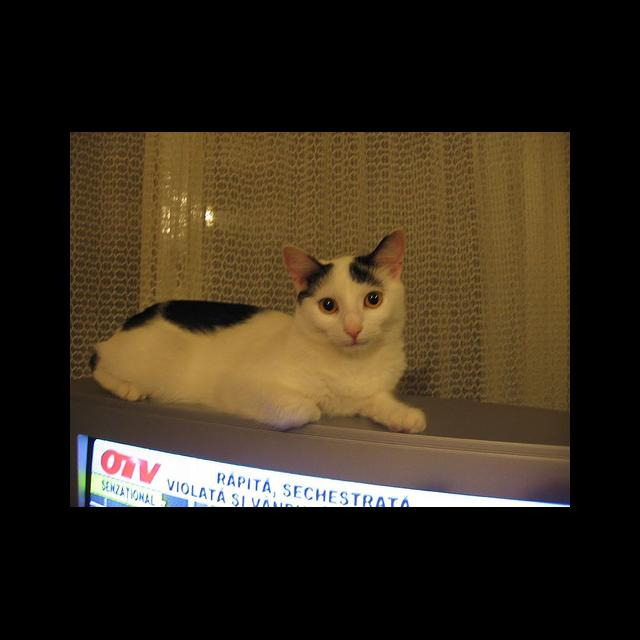animals: (285, 228, 402, 338)
